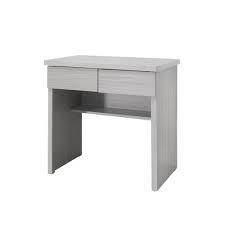desk: (20, 41, 191, 198)
